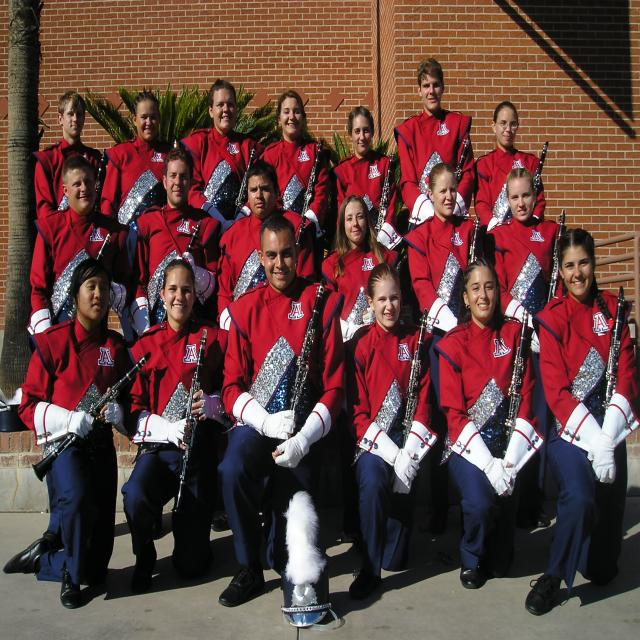clarinet: (32, 348, 155, 488), (167, 328, 212, 523), (283, 276, 329, 446), (63, 229, 117, 324), (161, 219, 205, 325), (504, 308, 532, 468), (403, 302, 429, 456), (605, 284, 628, 424), (543, 208, 570, 305), (230, 143, 261, 219), (376, 148, 399, 234), (301, 142, 328, 208), (86, 146, 111, 198), (531, 141, 549, 202), (458, 214, 479, 263), (454, 134, 473, 183), (294, 213, 306, 259)
